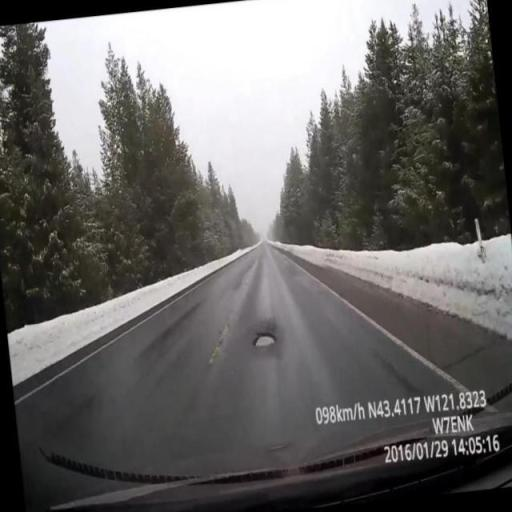pothole: (251, 331, 278, 349)
